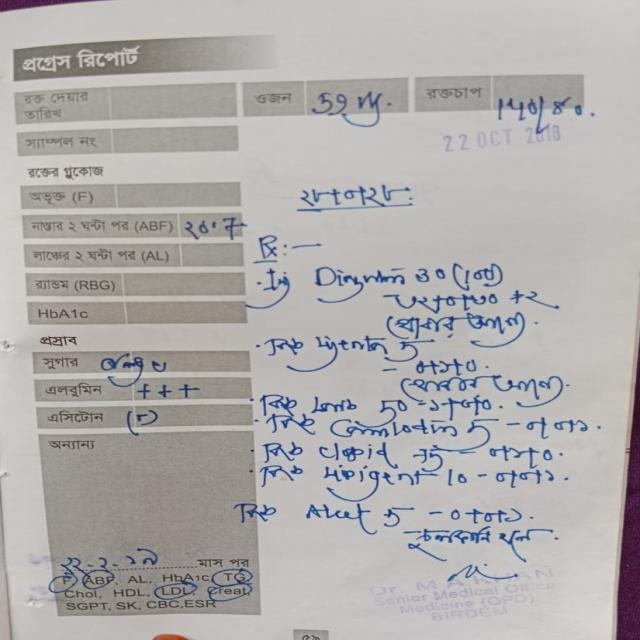Alcet: (305, 502, 382, 529)
Camlodin: (319, 419, 467, 444)
Diasulin: (300, 260, 419, 294)
Larb: (306, 390, 370, 415)
Lijenta: (306, 324, 391, 359)
Lipigent: (319, 460, 432, 494)
